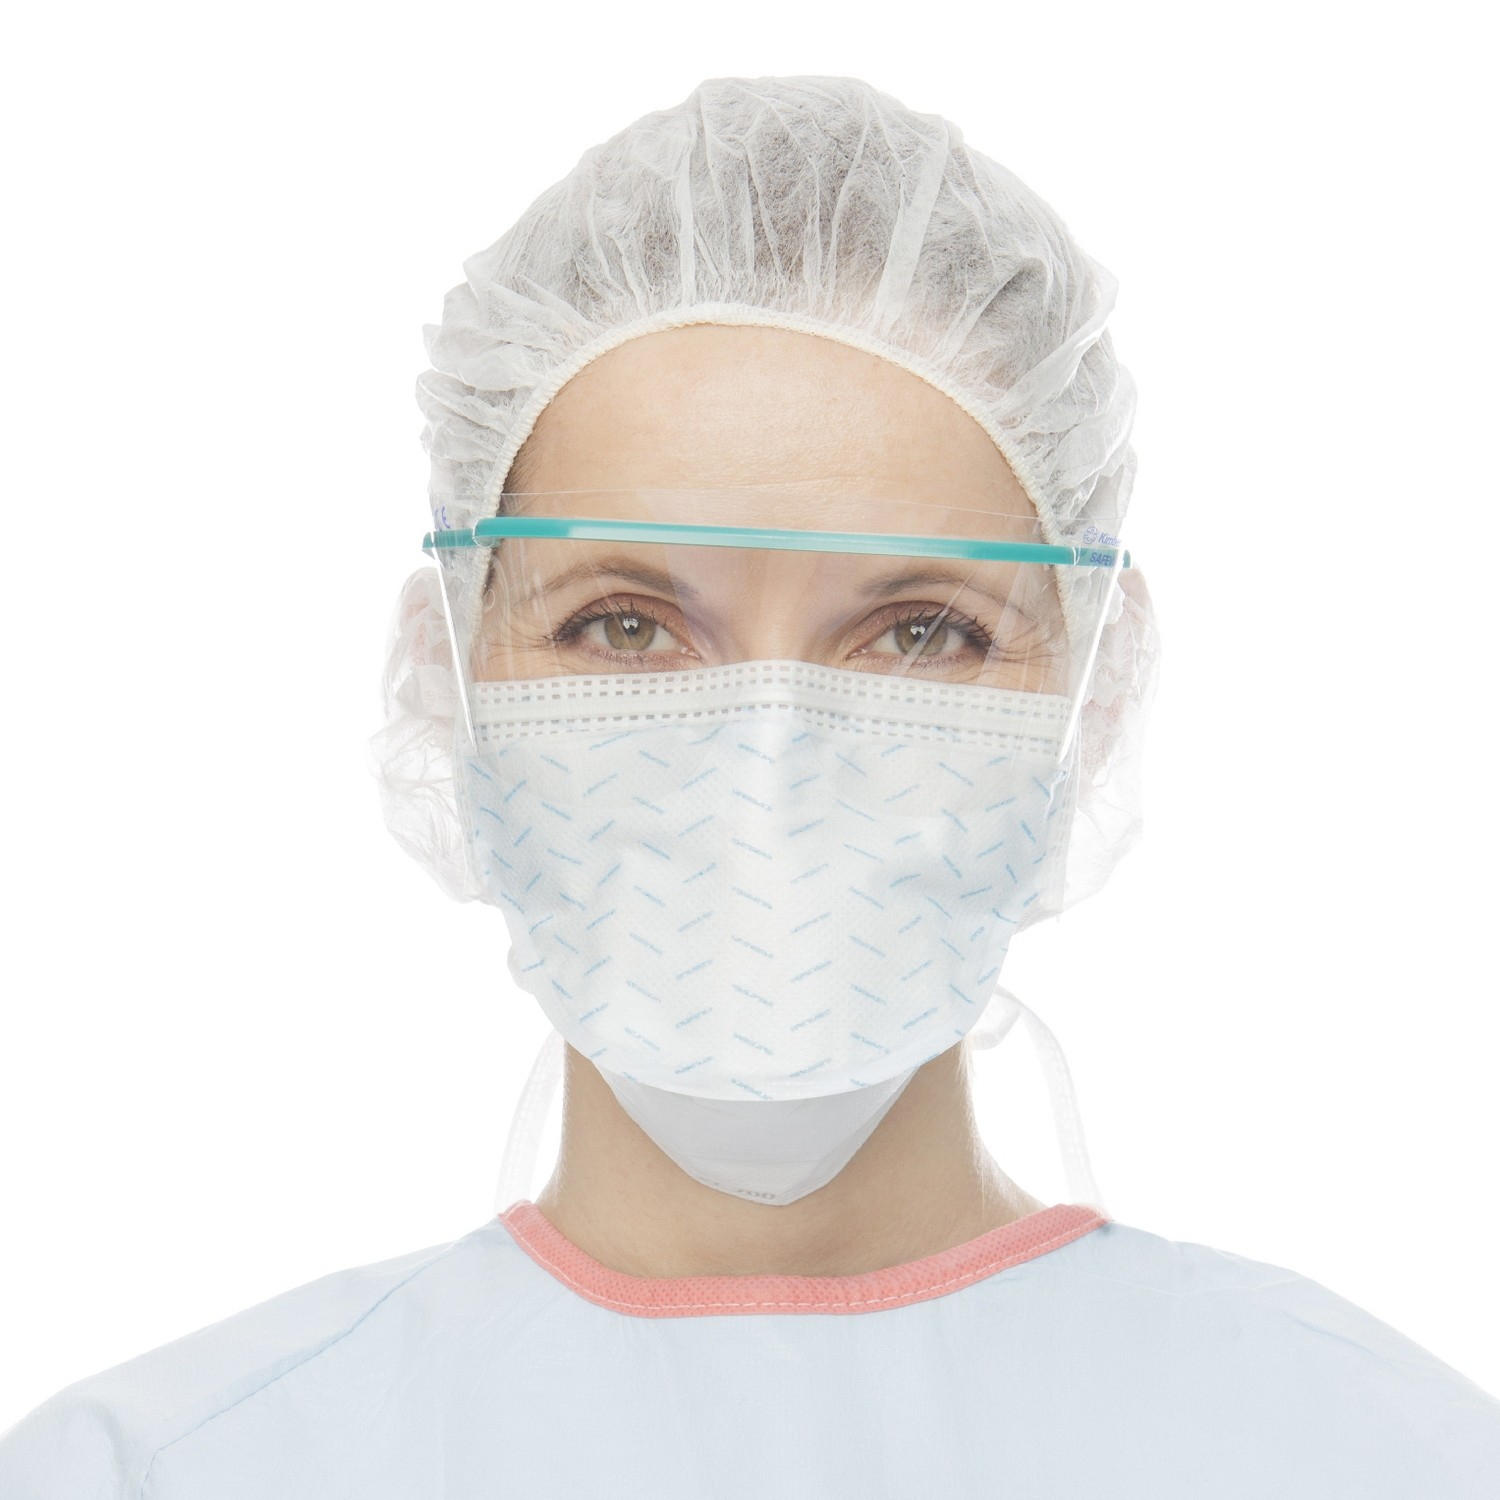with_mask_and_cap: (396, 97, 1146, 1185)
